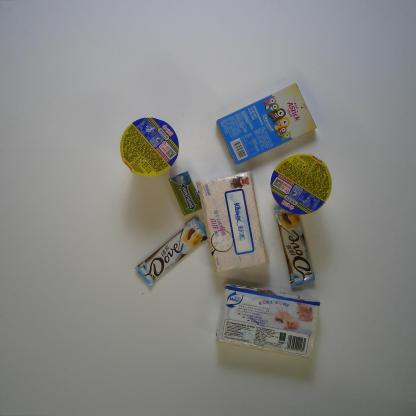Chocolate: (132, 213, 212, 288), (272, 202, 316, 289)
Dessert: (215, 81, 318, 166)
Gum: (168, 170, 203, 216)
Instant Noodles: (118, 115, 182, 179), (270, 152, 333, 217)
Tissue: (213, 279, 323, 359), (195, 169, 270, 274)
